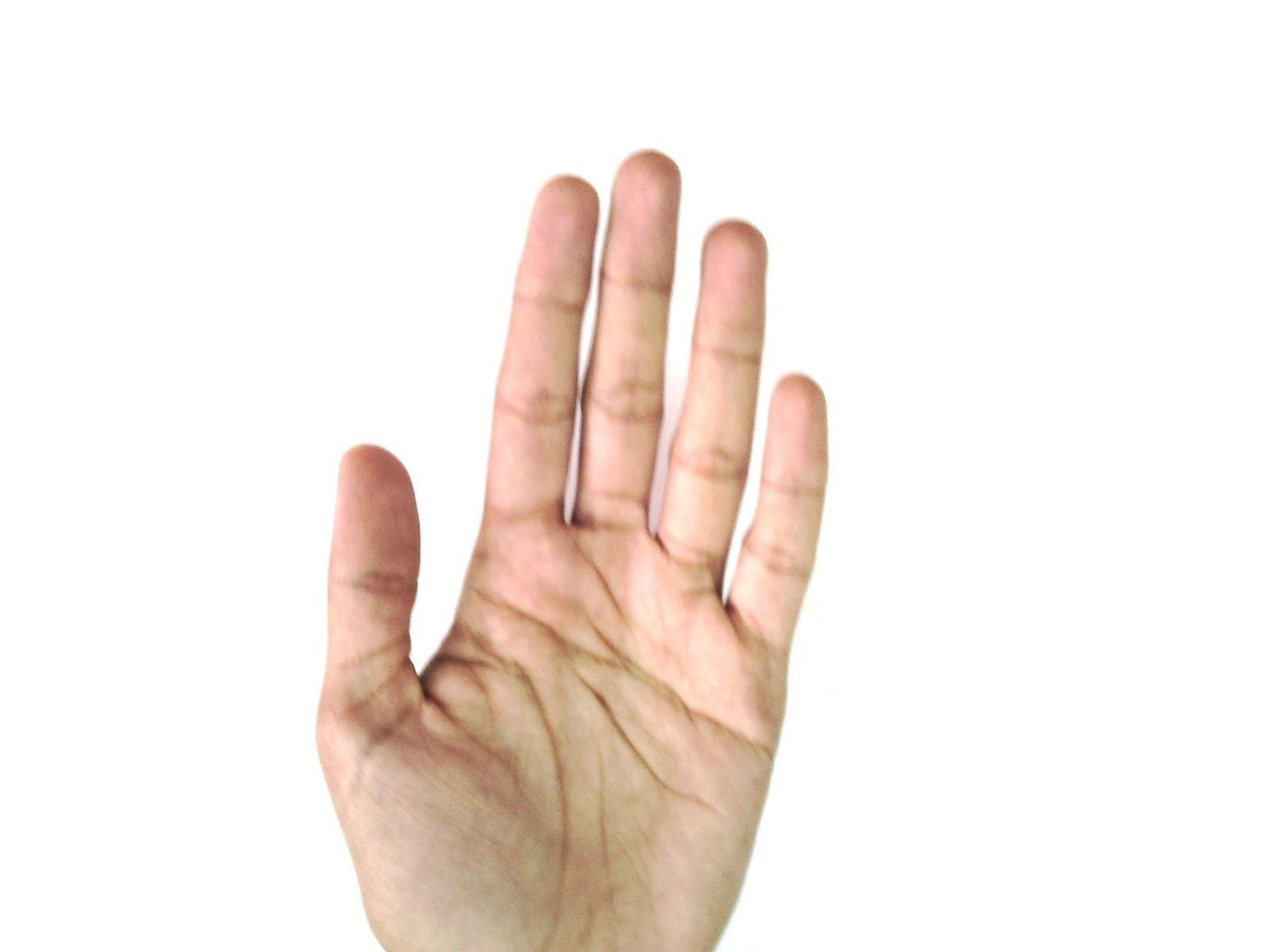open_palm: (313, 148, 833, 951)
